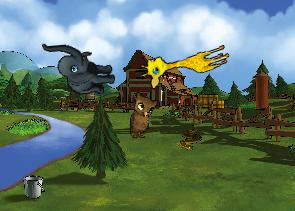elephant: (42, 37, 116, 98)
giraffe: (137, 33, 232, 91)
owl: (130, 92, 158, 139)
